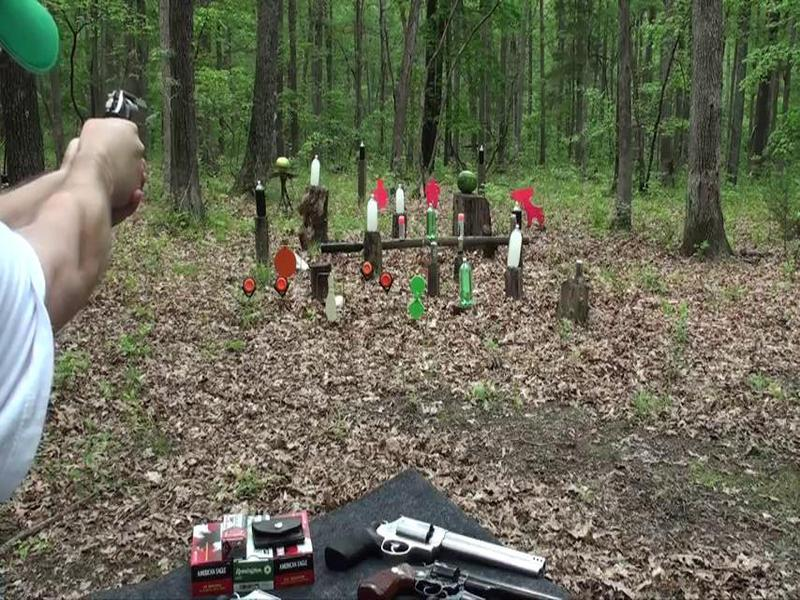Revolver: (97, 83, 153, 147)
